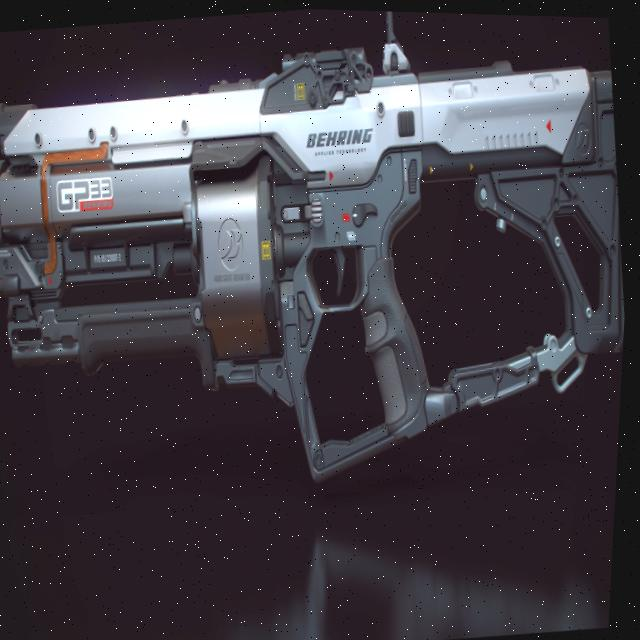firearm: (0, 0, 640, 519)
rocket: (0, 0, 640, 525)
